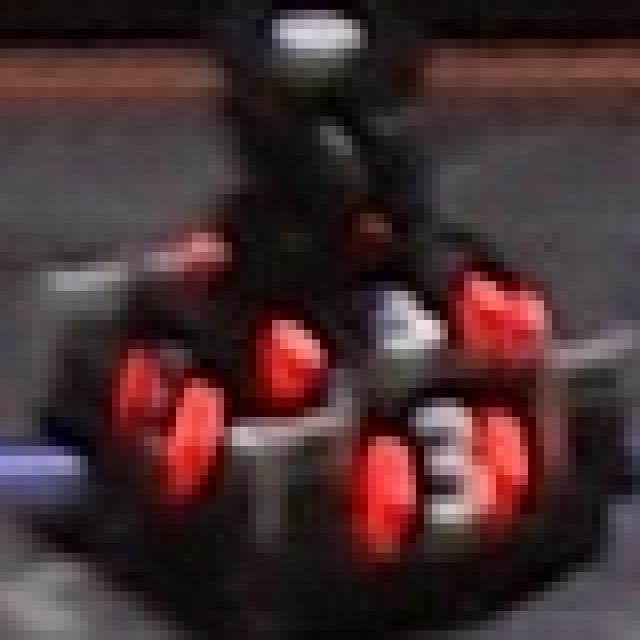R3: (352, 388, 544, 553), (280, 262, 520, 388), (104, 310, 216, 494)
